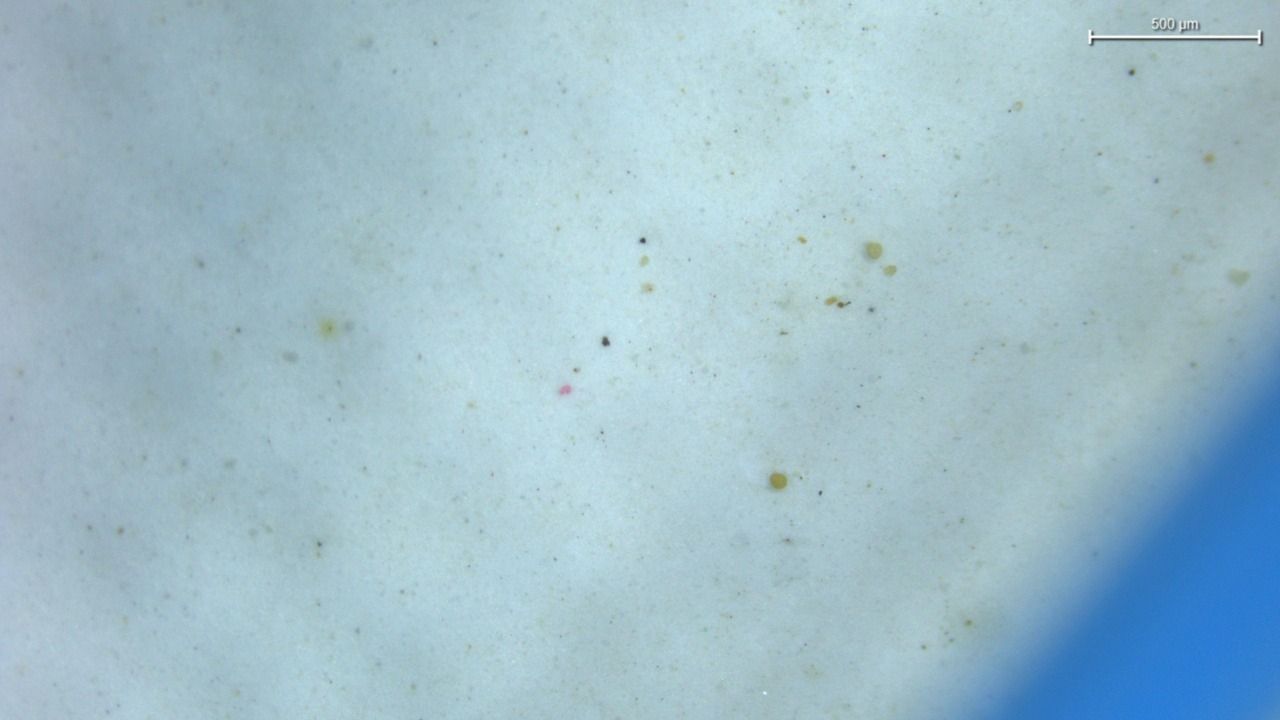microplastic_fragment: (559, 384, 572, 395)
